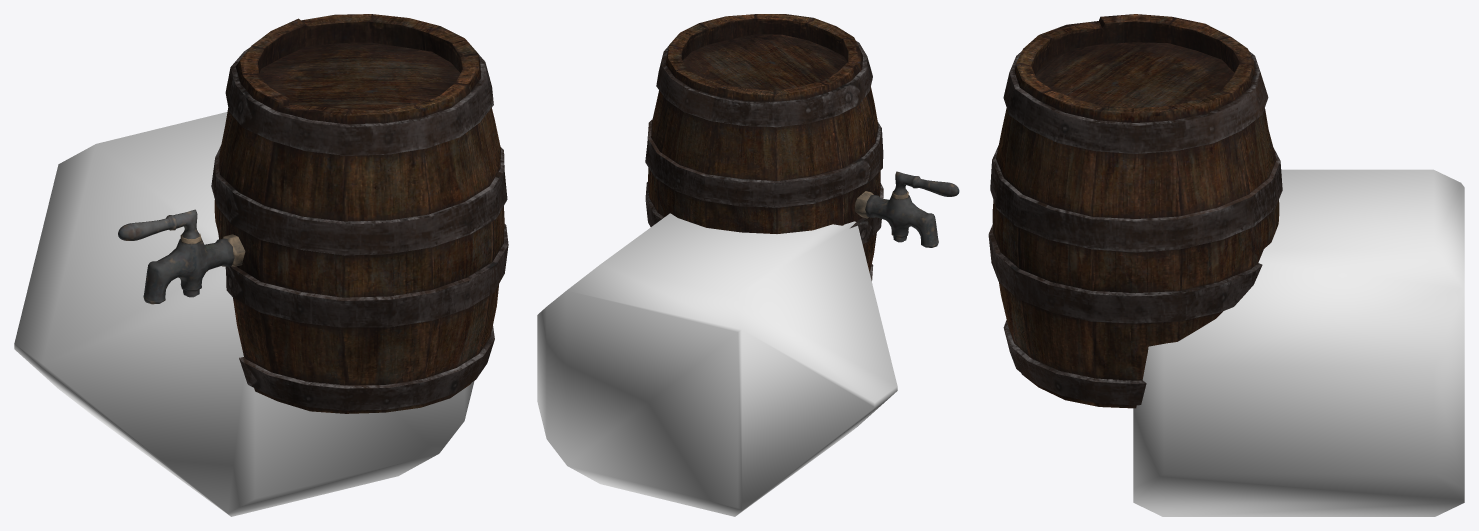
File: SM_Barrel_With_Crane.fbx
The picture shows the model from 3 angles, left to right: view 1: azimuth 30°, elevation 25°; view 2: azimuth 150°, elevation 25°; view 3: azimuth 270°, elevation 25°; orthographic projection. The views are drawn at different scales.
Parts seen in each view (by area): view 1: SM_Barrel_With_Crane, SM_Barrel_With_Crane_ConvexHulls; view 2: SM_Barrel_With_Crane_ConvexHulls, SM_Barrel_With_Crane; view 3: SM_Barrel_With_Crane_ConvexHulls, SM_Barrel_With_Crane.
Part boxes in pixels (<box>): SM_Barrel_With_Crane: <box>118,14,508,413</box>; SM_Barrel_With_Crane_ConvexHulls: <box>14,112,474,516</box>; SM_Barrel_With_Crane_ConvexHulls: <box>537,213,897,516</box>; SM_Barrel_With_Crane: <box>645,14,959,280</box>; SM_Barrel_With_Crane_ConvexHulls: <box>1133,169,1464,516</box>; SM_Barrel_With_Crane: <box>988,14,1282,408</box>.
Bounding box in the file's own units: 0.6306 × 0.7091 × 0.7105.
